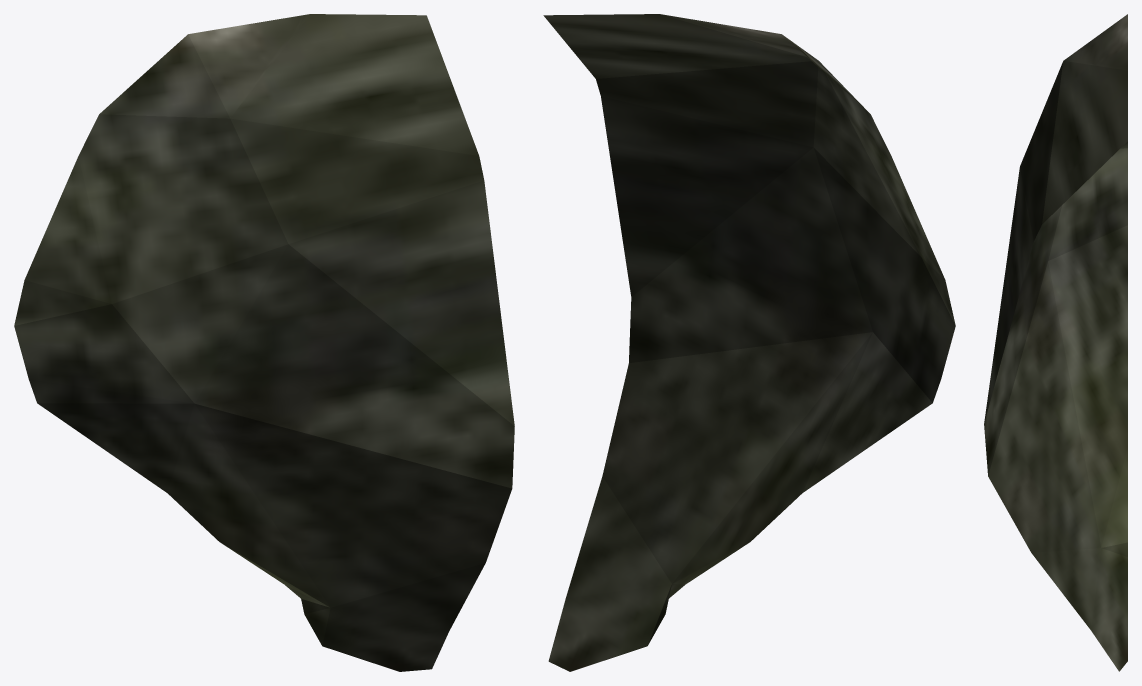
The picture shows the model from 3 angles, left to right: view 1: azimuth 30°, elevation 25°; view 2: azimuth 150°, elevation 25°; view 3: azimuth 270°, elevation 25°; orthographic projection. The views are drawn at different scales.
Bounding box in the file's own units: 0.7874 × 1.26 × 0.2913.
1 material, 1 textured.
